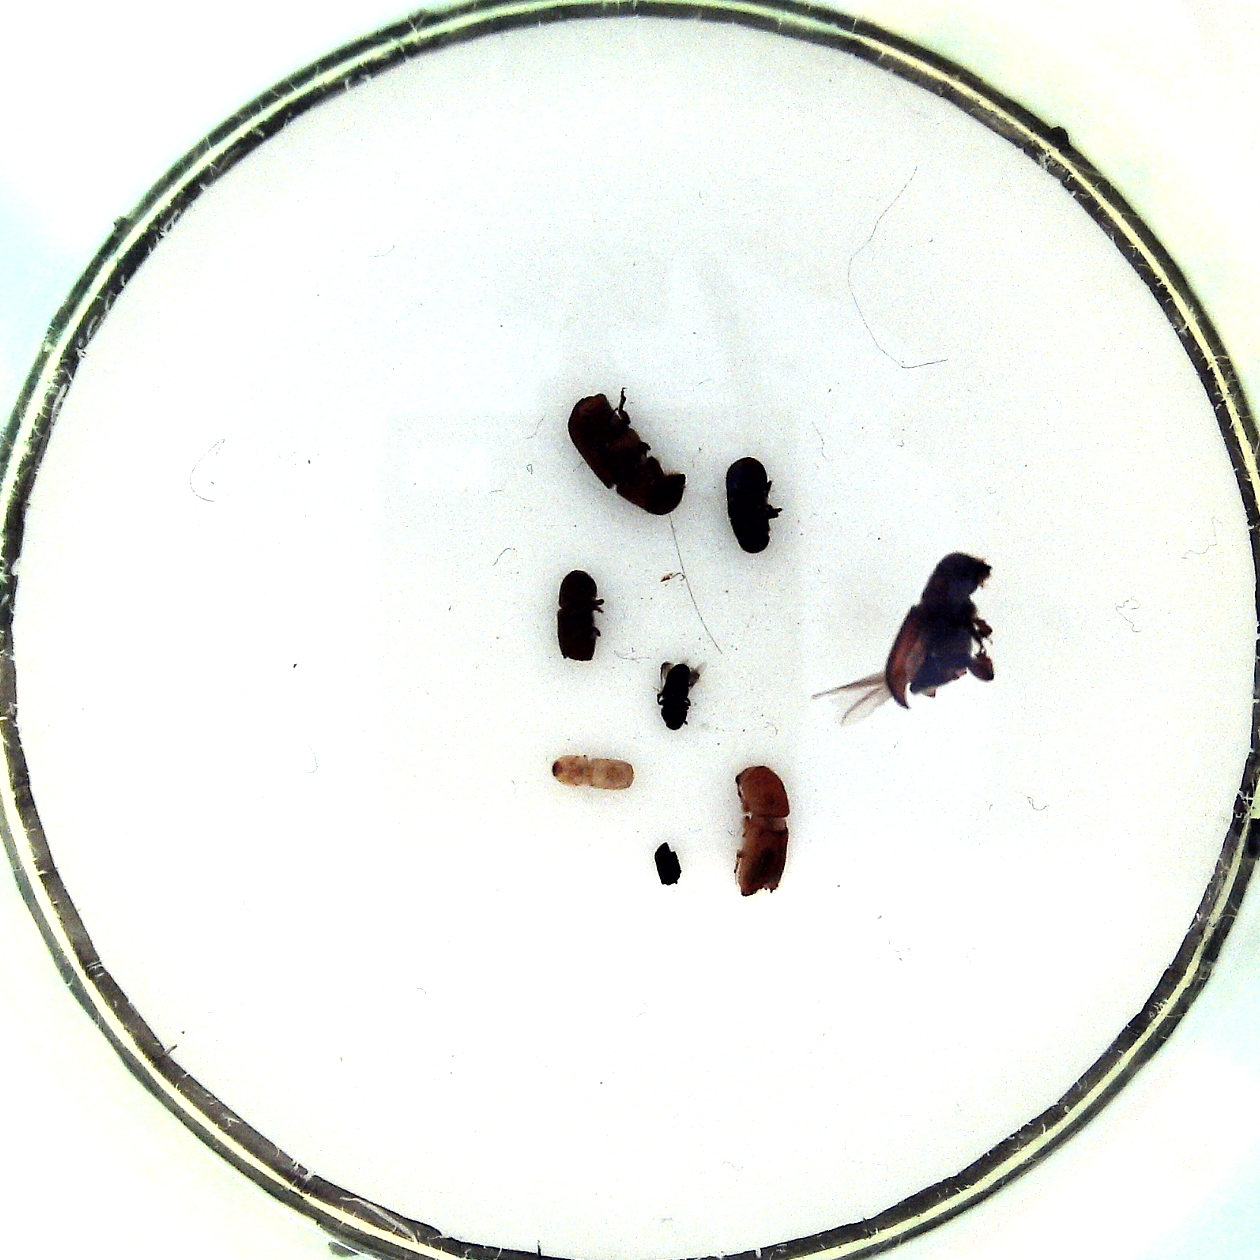Boerner: (729, 758, 796, 901)
Leconte: (803, 545, 1008, 727), (562, 388, 691, 522)
Linnaeus: (549, 563, 612, 672)
acuminatus: (547, 747, 644, 798)
armandi: (719, 449, 785, 558)
coleoptera: (652, 657, 705, 737), (648, 839, 691, 890)
